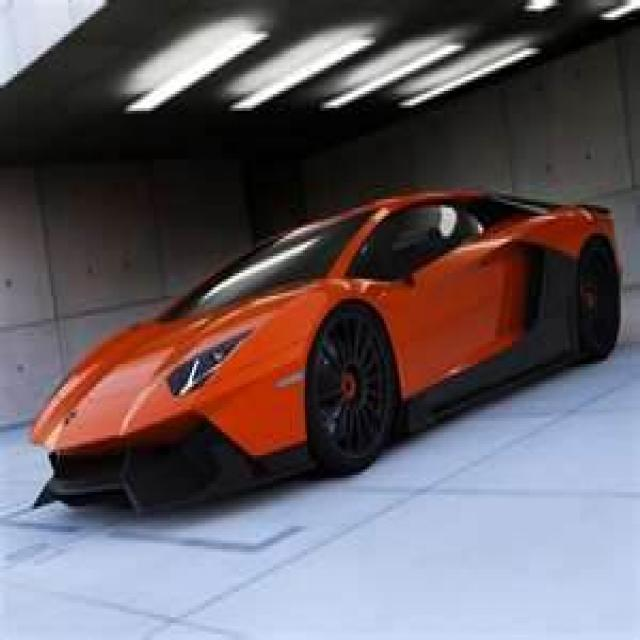car: (19, 182, 625, 512)
